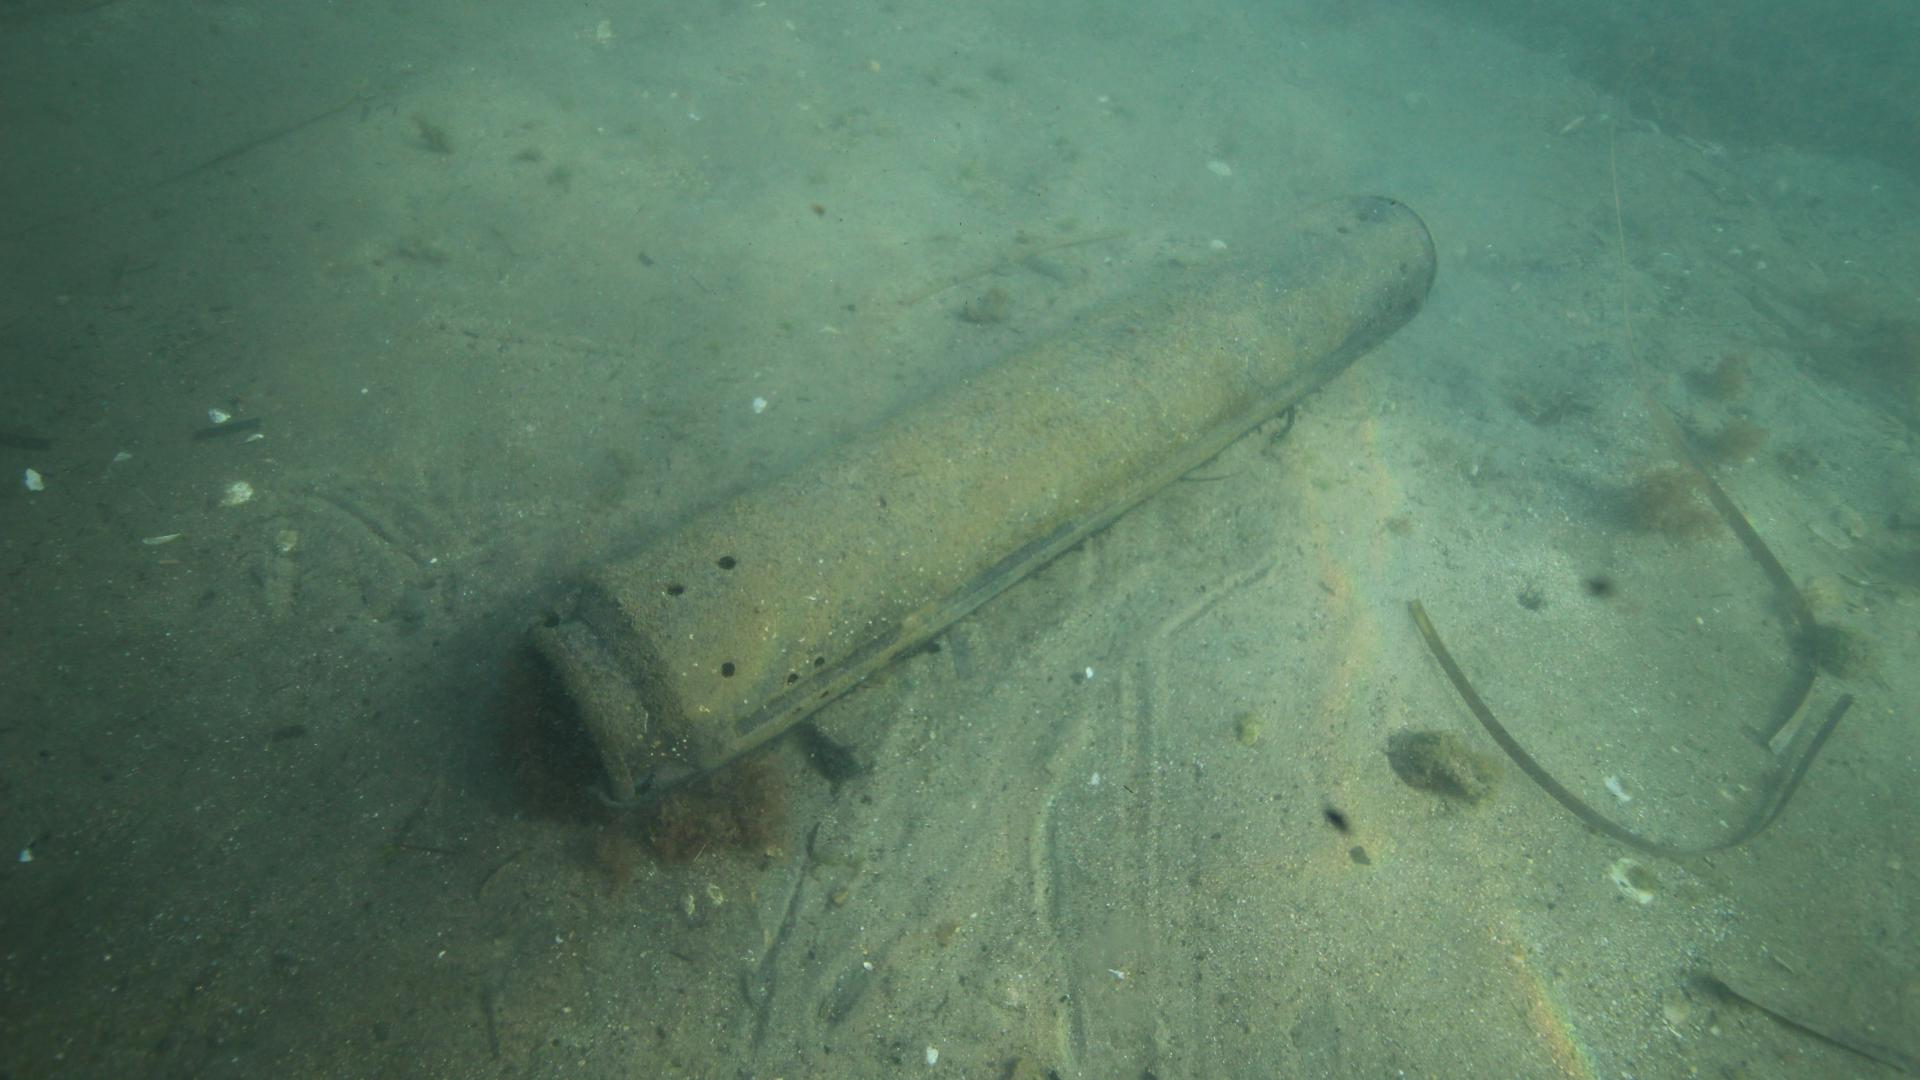eel fish trap: (520, 196, 1440, 818)
